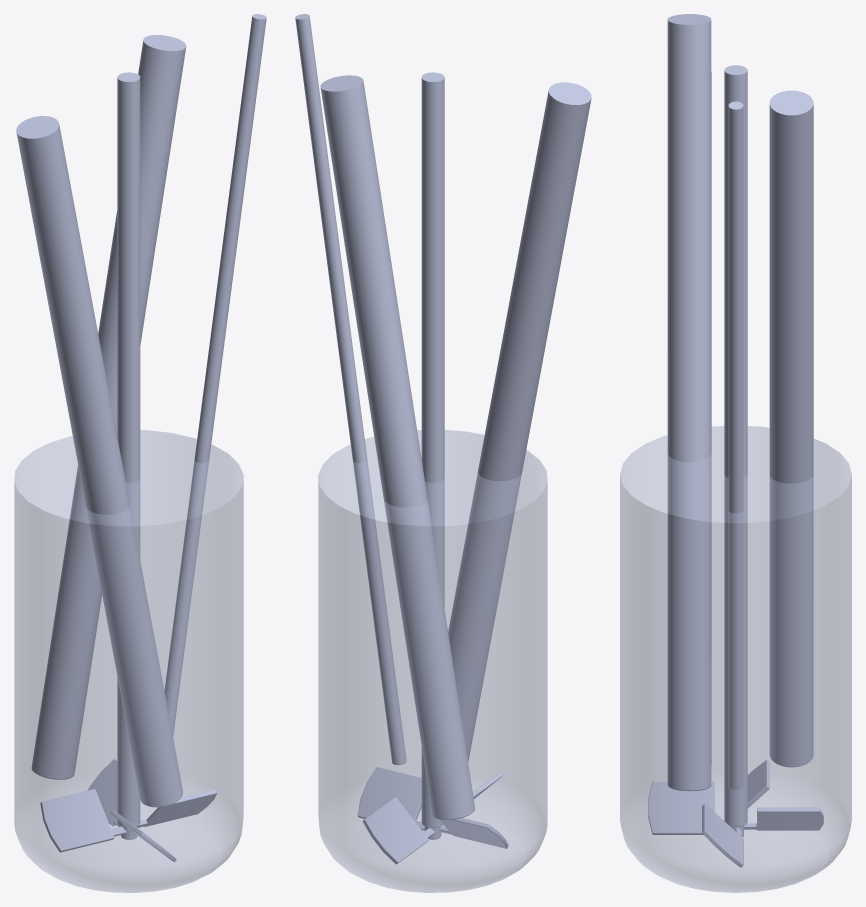
3 renders of one model, left to right at view 1: azimuth 30°, elevation 25°; view 2: azimuth 150°, elevation 25°; view 3: azimuth 270°, elevation 25°, orthographic.
Visible parts, largest first — view 1: Tank, IR, EasyViewer, Imp, Tr; view 2: Tank, EasyViewer, IR, Imp, Tr; view 3: Tank, IR, EasyViewer, Imp, Tr.
Boxes of the visible parts, box(x1,y1,x2,y2) form: Tank: box(14, 430, 243, 892); IR: box(16, 116, 182, 807); EasyViewer: box(31, 35, 186, 779); Imp: box(40, 72, 217, 862); Tr: box(164, 14, 266, 736); Tank: box(318, 430, 547, 892); EasyViewer: box(320, 75, 475, 820); IR: box(448, 82, 591, 761); Imp: box(357, 72, 508, 864); Tr: box(295, 14, 406, 764); Tank: box(620, 426, 851, 892); IR: box(667, 14, 711, 791); EasyViewer: box(769, 90, 813, 767); Imp: box(648, 65, 823, 867); Tr: box(728, 101, 743, 789).
Size of the model in its own units: 0.0677 by 0.1971 by 0.05.
